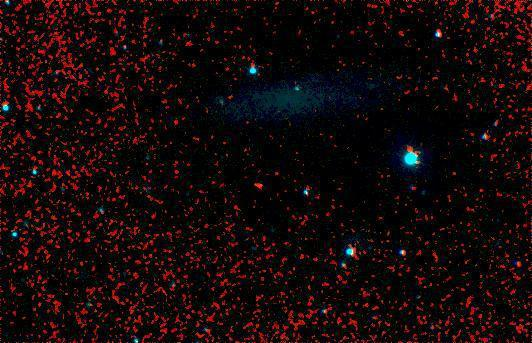star: (240, 172, 270, 202)
